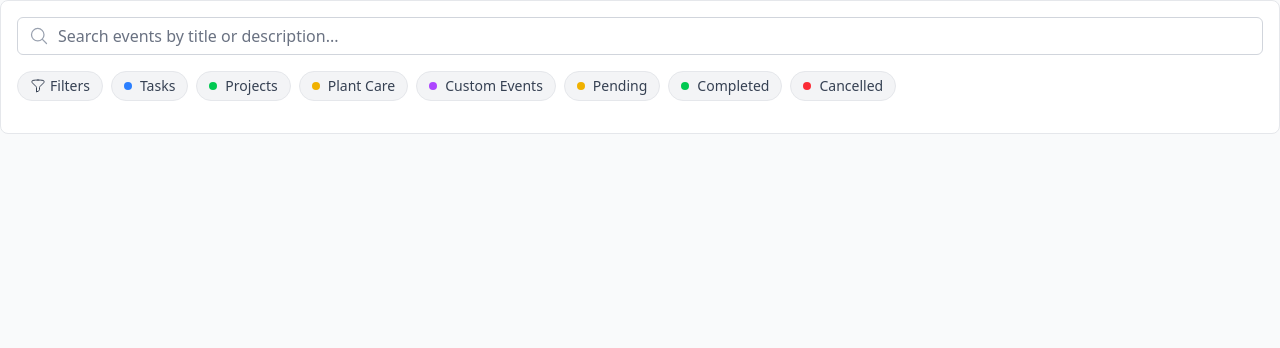
Test: CalendarFilters › shows advanced filters when filter button is clicked
The image size is (1280, 348).
What coordinates should you click on to do the following:
click the button "Filters"
I would click on:
 (60, 86)
Its box is [17,71,103,101].
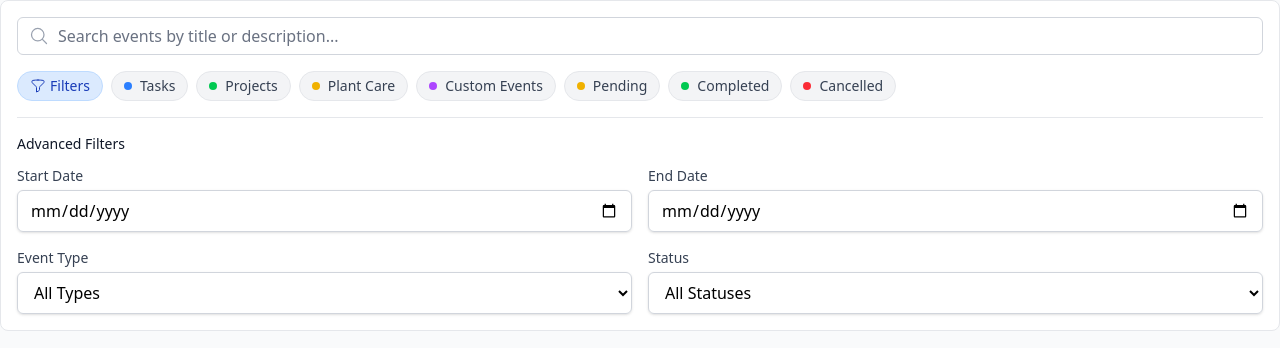
Result: the heading "Advanced Filters" is shown at [17,134,125,153]
Result: the text "Start Date" is shown at [17,166,83,185]
Result: the text "End Date" is shown at [648,166,708,185]
